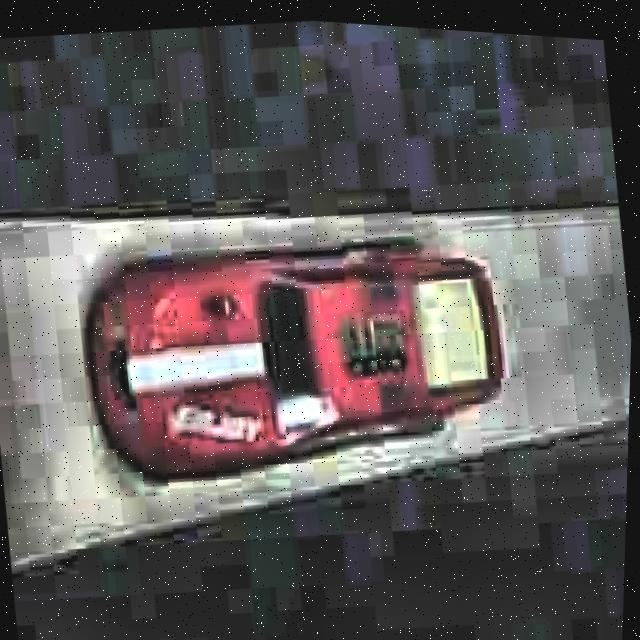car: (66, 197, 525, 518)
